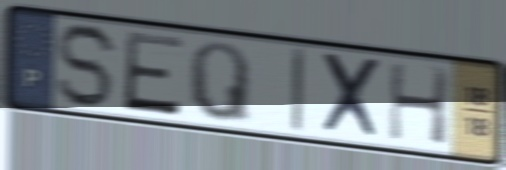E: (120, 28, 187, 120)
H: (386, 59, 453, 149)
I: (289, 45, 308, 136)
Q: (186, 39, 254, 128)
S: (54, 20, 123, 111)
X: (318, 50, 386, 144)
